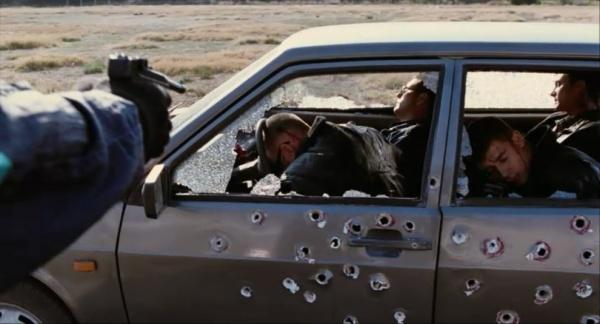Gun: (107, 53, 186, 96)
